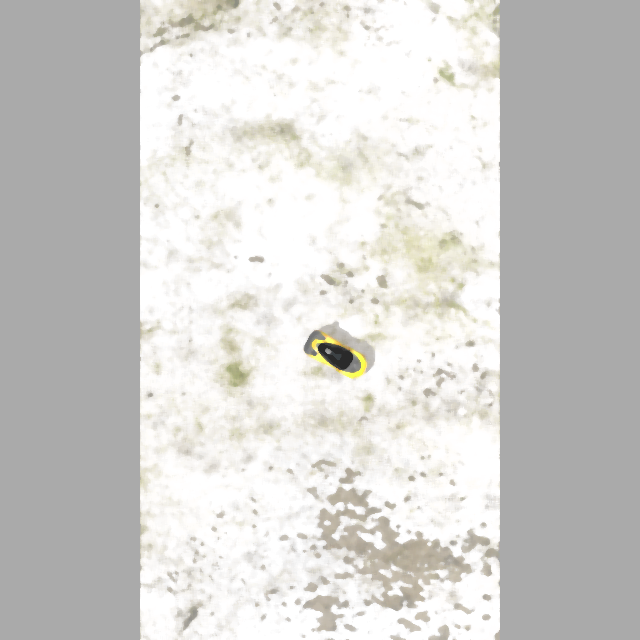car: (299, 326, 373, 386)
